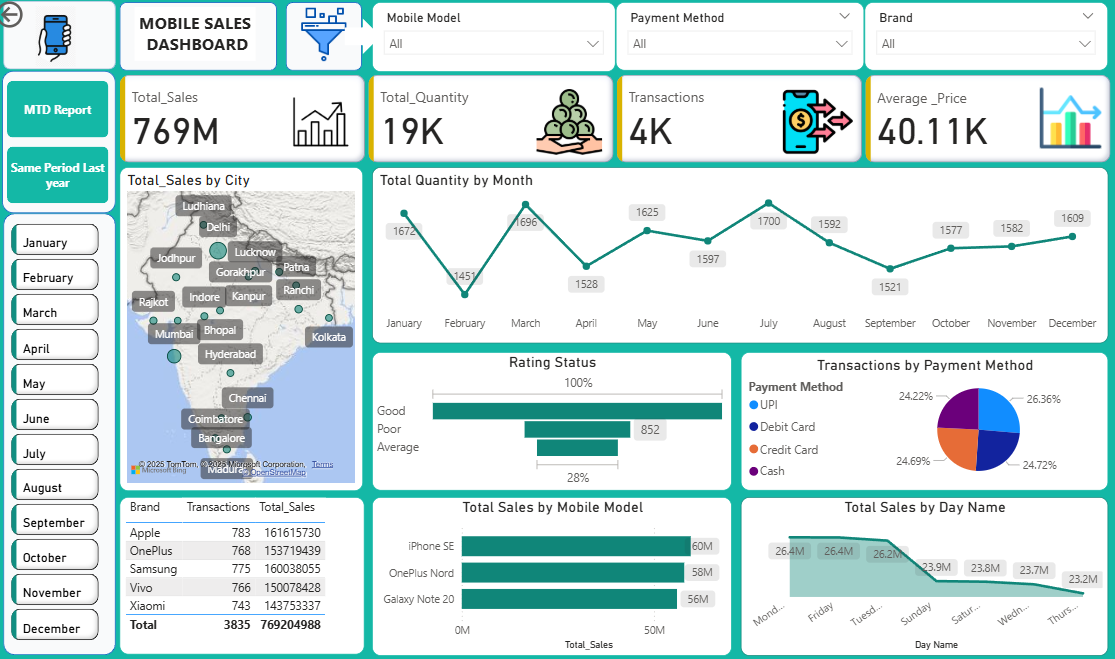

This screenshot's page, from the dashboard's own definition file:
{"tool":"powerbi","page":{"name":"Dashboard","canvas":[1284,758],"ordinal":0},"visuals":[{"type":"shape","box":[12.9,4.3,128.6,78.6],"z":0},{"type":"shape","box":[11.4,84.3,130,162.9],"z":1000},{"type":"shape","box":[12.9,247.1,128.6,505],"z":2000},{"type":"image","box":[37.1,5.7,71.4,78.6],"z":3000},{"type":"advancedSlicerVisual","fields":{"Values":["Custom_Calendar.Date.Variation.Date Hierarchy.Month"]},"box":[17.1,254.3,110,491.4],"z":4000},{"type":"cardVisual","fields":{"Data":["Mobile_Sales_Data.Total_Sales","Mobile_Sales_Data.Total_Quantity","Mobile_Sales_Data.Transactions","Mobile_Sales_Data.Average _Price"]},"box":[141.4,84.3,1142.9,110],"z":5000},{"type":"slicer","fields":{"Values":["Mobile_Sales_Data.Mobile Model"]},"box":[434.3,5.7,278.6,80],"z":6000},{"type":"slicer","fields":{"Values":["Mobile_Sales_Data.Payment Method"]},"box":[712.9,5.7,284.3,78.6],"z":7000},{"type":"slicer","fields":{"Values":["Mobile_Sales_Data.Brand"]},"box":[997.1,5.7,278,78.6],"z":8000},{"type":"shape","box":[335.7,5.7,87.1,78.6],"z":9000},{"type":"image","box":[342.9,0,72.9,85.7],"z":10000},{"type":"shape","box":[402.9,24.3,41.4,41.4],"z":11000},{"type":"shape","box":[145.7,5.7,180,78.6],"z":12000},{"type":"textbox","box":[162.9,11.4,138.6,61.4],"z":13000},{"type":"map","fields":{"Category":["Mobile_Sales_Data.City"],"Size":["Mobile_Sales_Data.Total_Sales"]},"box":[145.7,194.3,278.6,370],"z":14000},{"type":"lineChart","title":"Total Quantity by Month","fields":{"Y":["Mobile_Sales_Data.Total_Quantity"],"Category":["Custom_Calendar.Date.Variation.Date Hierarchy.Month"]},"box":[434.3,194.3,841.4,201.4],"z":15000},{"type":"funnel","title":"Rating Status","fields":{"Y":["CountNonNull(Mobile_Sales_Data.Customer Age)"],"Category":["Mobile_Sales_Data.Rating Status"]},"box":[434.3,405.7,411.4,158.6],"z":16000},{"type":"pieChart","fields":{"Y":["Mobile_Sales_Data.Transactions"],"Category":["Mobile_Sales_Data.Payment Method"]},"box":[855.7,405.7,420,158.6],"z":17000},{"type":"clusteredBarChart","title":"Total Sales by Mobile Model","fields":{"Y":["Mobile_Sales_Data.Total_Sales"],"Category":["Mobile_Sales_Data.Mobile Model"]},"box":[434.3,571.4,411.4,181.4],"z":18000},{"type":"areaChart","title":"Total Sales by Day Name","fields":{"Y":["Mobile_Sales_Data.Total_Sales"],"Category":["Custom_Calendar.Day Name"]},"box":[855.7,571.4,420,181.4],"z":19000},{"type":"tableEx","fields":{"Values":["Mobile_Sales_Data.Brand","Mobile_Sales_Data.Transactions","Mobile_Sales_Data.Total_Sales"]},"box":[145.7,571.4,280,180],"z":20000},{"type":"actionButton","box":[0,0,100,40],"z":21000},{"type":"pageNavigator","box":[17.1,95.7,116,141.4],"z":22000}]}

Visuals, with their boxes in screenshot pixels (x1, y1, x2, y2), scaled from the page's 1284x758 canvas onto the 1115x659 screenshot:
shape: <bbox>11, 4, 123, 72</bbox>
shape: <bbox>10, 73, 123, 215</bbox>
shape: <bbox>11, 215, 123, 654</bbox>
image: <bbox>32, 5, 94, 73</bbox>
advancedSlicerVisual - Custom_Calendar.Date.Variation.Date Hierarchy.Month: <bbox>15, 221, 110, 648</bbox>
cardVisual - Mobile_Sales_Data.Total_Sales x Mobile_Sales_Data.Total_Quantity: <bbox>123, 73, 1114, 169</bbox>
slicer - Mobile_Sales_Data.Mobile Model: <bbox>377, 5, 619, 75</bbox>
slicer - Mobile_Sales_Data.Payment Method: <bbox>619, 5, 866, 73</bbox>
slicer - Mobile_Sales_Data.Brand: <bbox>866, 5, 1107, 73</bbox>
shape: <bbox>292, 5, 367, 73</bbox>
image: <bbox>298, 0, 361, 75</bbox>
shape: <bbox>350, 21, 386, 57</bbox>
shape: <bbox>127, 5, 283, 73</bbox>
textbox: <bbox>141, 10, 262, 63</bbox>
map - Mobile_Sales_Data.City x Mobile_Sales_Data.Total_Sales: <bbox>127, 169, 368, 491</bbox>
"Total Quantity by Month" lineChart: <bbox>377, 169, 1108, 344</bbox>
"Rating Status" funnel: <bbox>377, 353, 734, 491</bbox>
pieChart - Mobile_Sales_Data.Transactions x Mobile_Sales_Data.Payment Method: <bbox>743, 353, 1108, 491</bbox>
"Total Sales by Mobile Model" clusteredBarChart: <bbox>377, 497, 734, 654</bbox>
"Total Sales by Day Name" areaChart: <bbox>743, 497, 1108, 654</bbox>
tableEx - Mobile_Sales_Data.Brand x Mobile_Sales_Data.Transactions: <bbox>127, 497, 370, 653</bbox>
actionButton: <bbox>0, 0, 87, 35</bbox>
pageNavigator: <bbox>15, 83, 116, 206</bbox>
